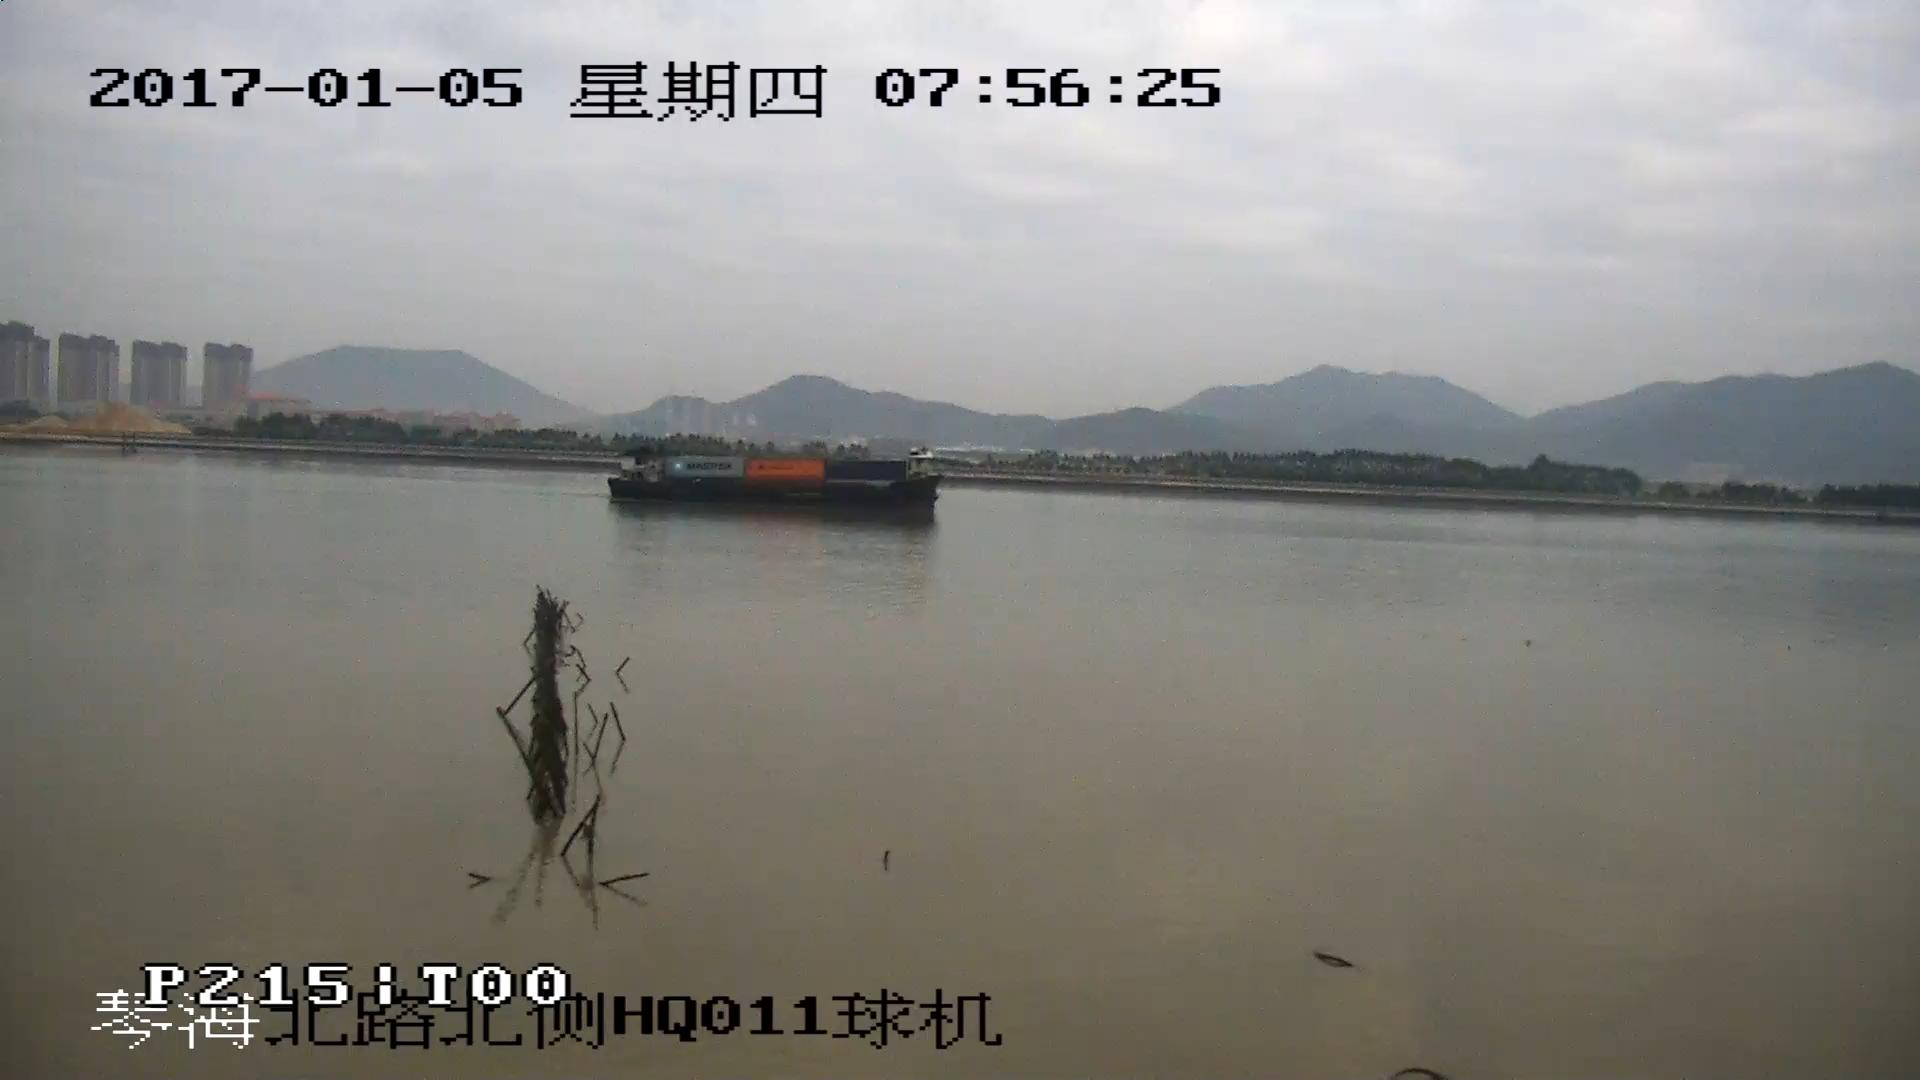container ship: (612, 448, 938, 516)
